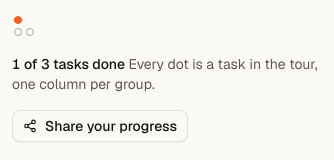
Test: TourMap › shares a link that decodes to the same finished tasks
What coordinates should you click on to do the following:
click the button "Share your progress"
I would click on:
 (100, 126)
Its box is [12,110,188,142].
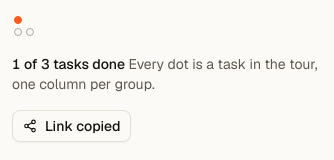
Now the button "Link copied" is shown, box [12,110,131,142]
